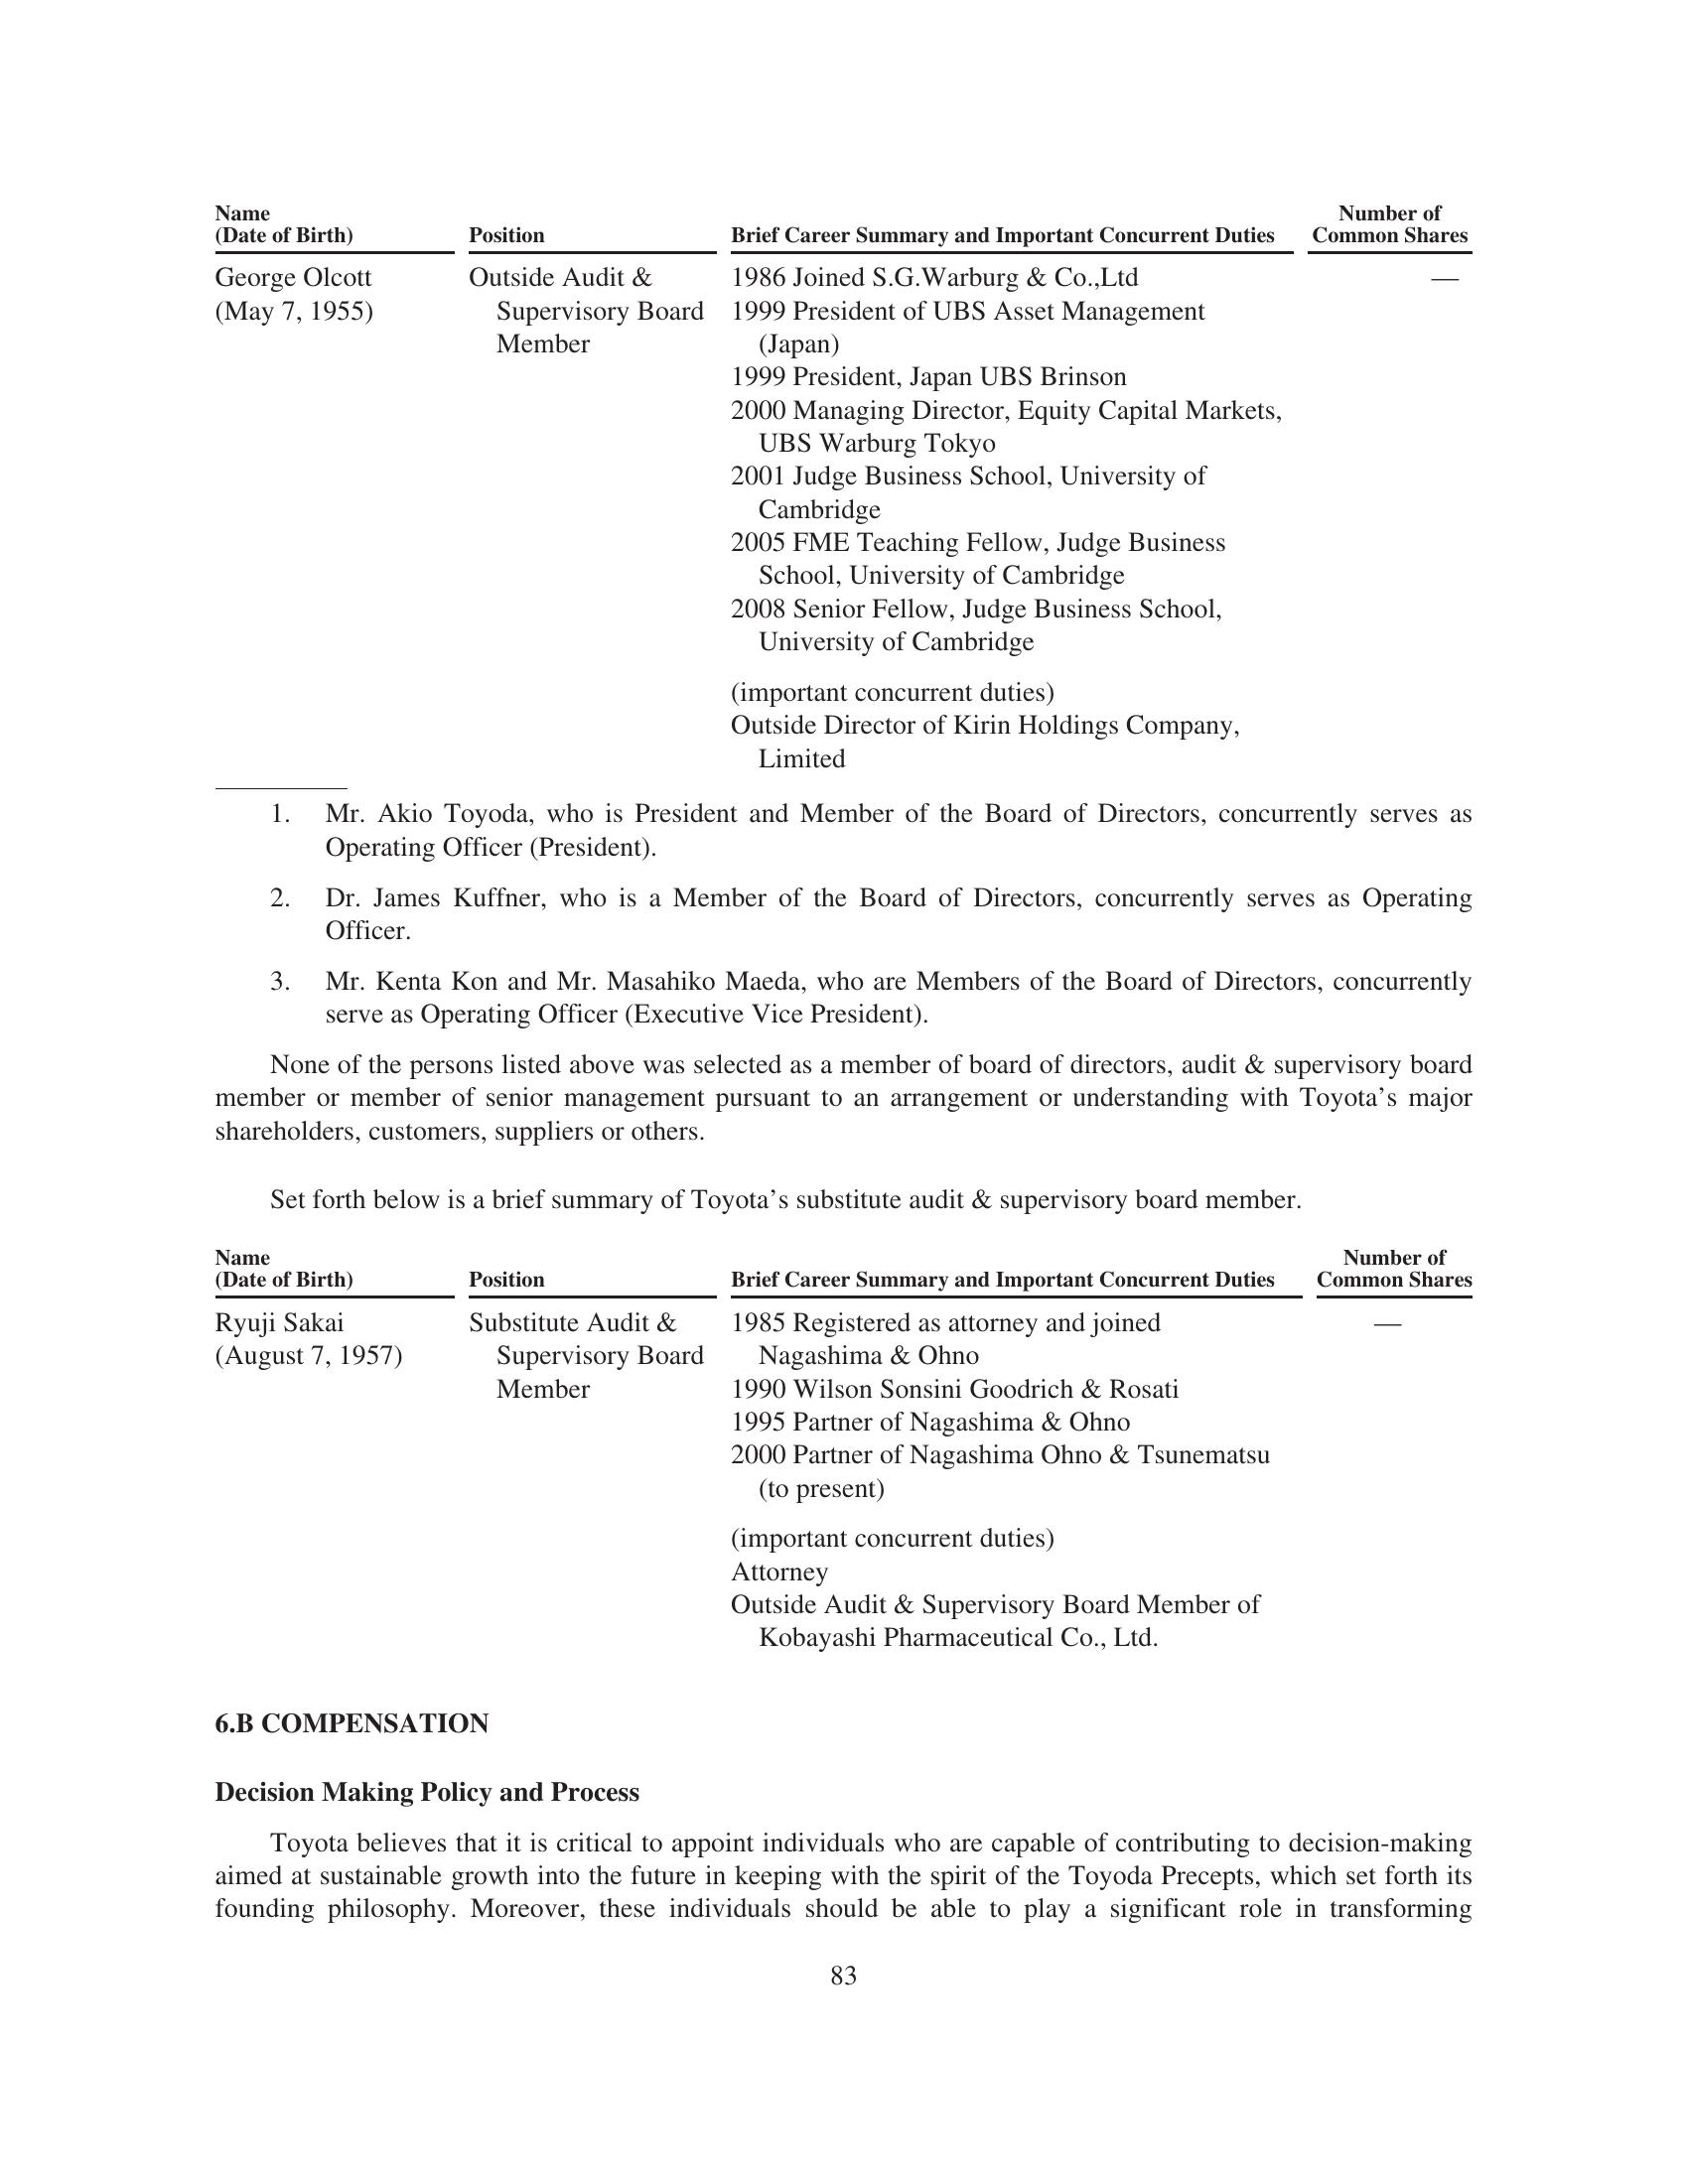Footer: (0, 1954, 1688, 2184)
Header: (0, 0, 1688, 167)
Table: (176, 170, 1509, 745), (124, 1230, 1518, 1652)
